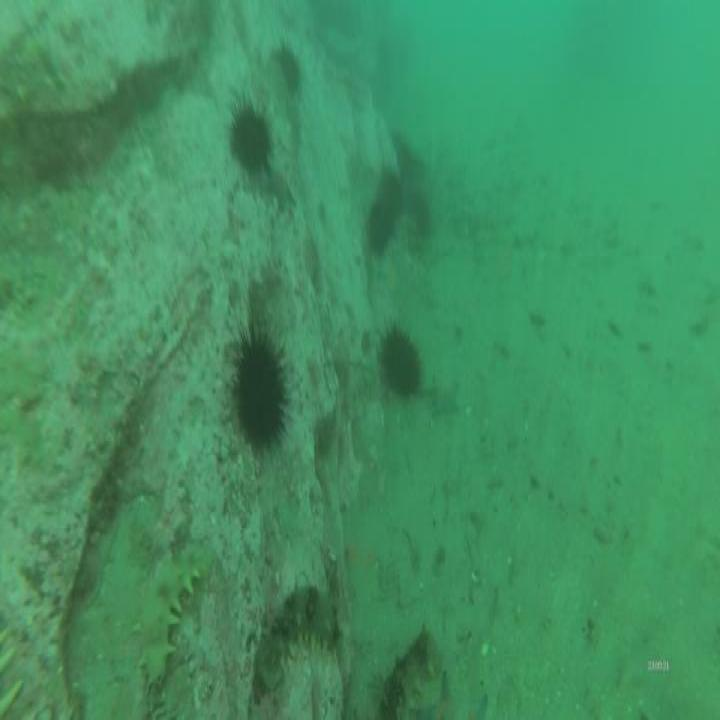echinus: (238, 339, 284, 441), (380, 331, 421, 398), (229, 112, 268, 171), (379, 171, 405, 224), (368, 199, 388, 251), (281, 46, 303, 89)
holothurian: (139, 544, 211, 677), (257, 590, 336, 679), (381, 626, 441, 720)
